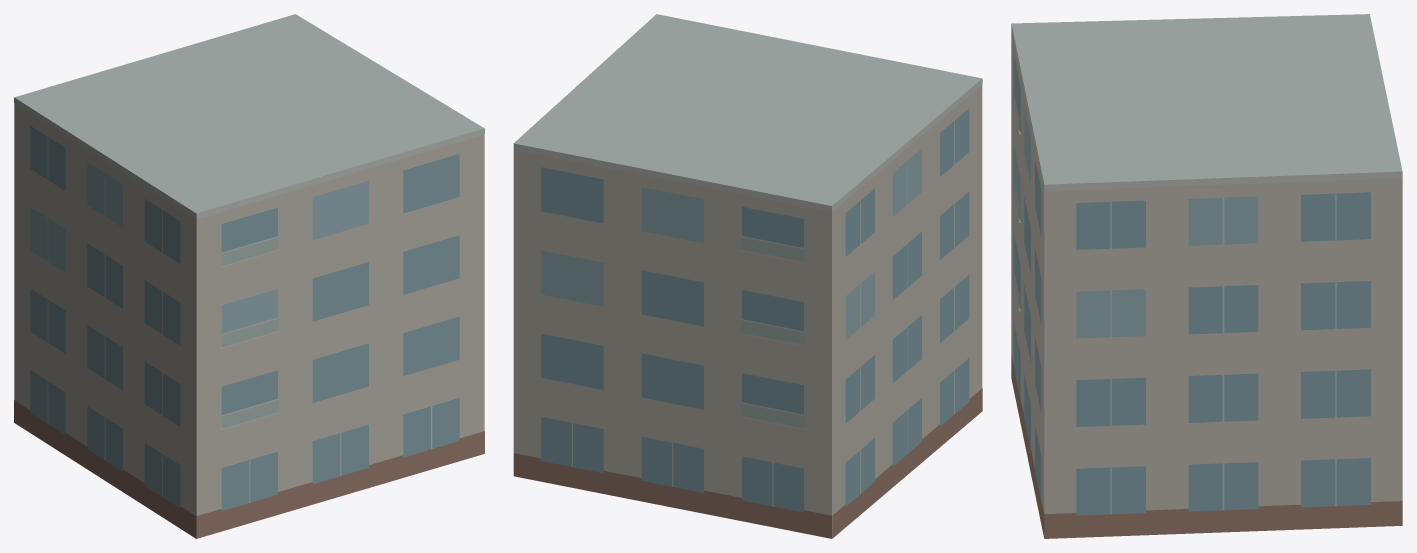
File: survey-upis-32739908.glb
3 renders of one model, left to right at view 1: azimuth 30°, elevation 25°; view 2: azimuth 150°, elevation 25°; view 3: azimuth 270°, elevation 25°, orthographic. The views are drawn at different scales.
Visible parts, largest first — view 1: survey-upis-32739908.tmp; view 2: survey-upis-32739908.tmp; view 3: survey-upis-32739908.tmp.
Part boxes in pixels (x1,y1,x2,y2): survey-upis-32739908.tmp: [14, 14, 484, 538]; survey-upis-32739908.tmp: [513, 14, 982, 538]; survey-upis-32739908.tmp: [1011, 14, 1402, 538].
Size of the model in its own units: 13.64 by 13.2 by 13.22.
